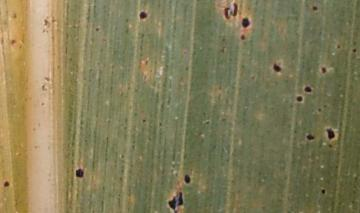tarspot: (167, 191, 183, 213), (240, 15, 251, 28), (74, 166, 85, 178), (223, 5, 231, 20), (232, 1, 239, 17), (326, 128, 336, 139), (273, 62, 282, 73), (302, 84, 313, 93), (2, 178, 11, 188), (138, 11, 148, 20), (306, 133, 316, 141), (295, 94, 303, 103), (139, 115, 147, 124), (184, 174, 191, 184), (319, 185, 326, 195), (239, 32, 246, 41), (311, 4, 318, 12), (94, 25, 101, 33), (12, 11, 18, 20), (351, 46, 358, 53), (10, 38, 17, 45), (321, 66, 327, 74), (316, 106, 322, 113), (328, 143, 333, 148), (337, 43, 341, 49)
